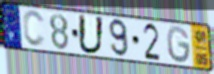2: (142, 22, 162, 63)
8: (47, 12, 70, 52)
9: (107, 17, 130, 59)
C: (22, 10, 48, 49)
G: (165, 25, 192, 65)
U: (77, 13, 106, 56)
